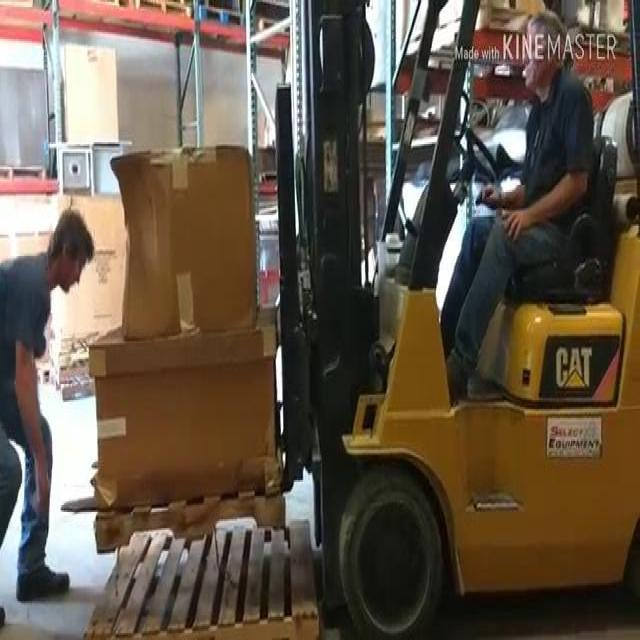box: (84, 331, 283, 510), (107, 137, 266, 339), (51, 12, 191, 166), (0, 190, 132, 347), (170, 32, 286, 160), (59, 27, 126, 151)
forklift: (270, 0, 639, 635)
pallets: (82, 510, 331, 640)
person: (442, 16, 612, 432), (0, 201, 94, 633)
